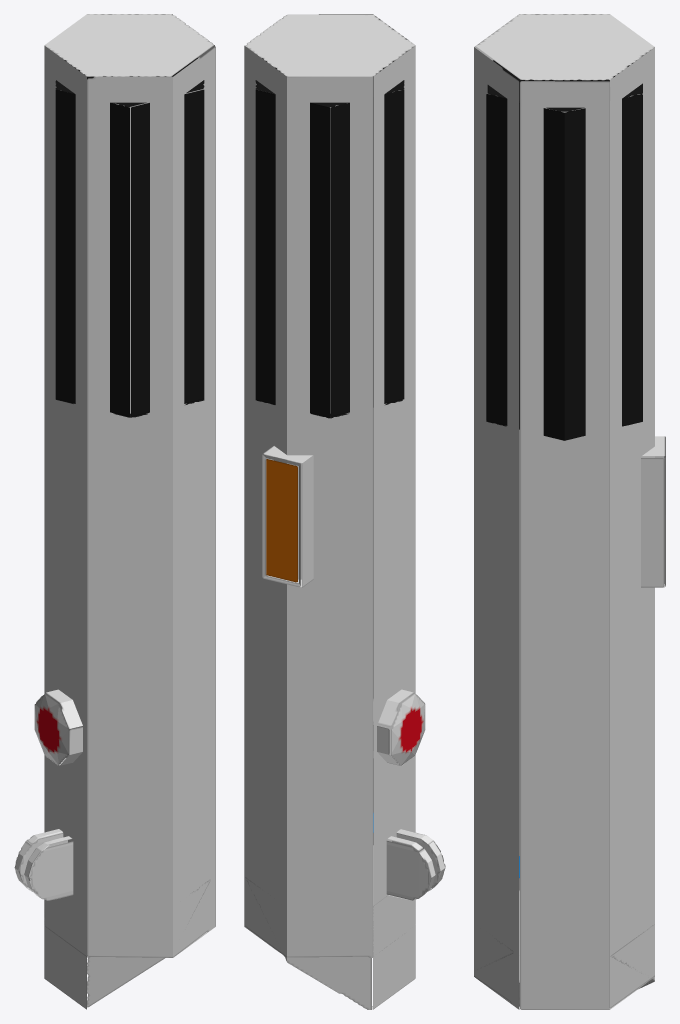
The model's file is anakin_off.fbx.
The picture shows the model from 3 angles, left to right: view 1: azimuth 30°, elevation 25°; view 2: azimuth 150°, elevation 25°; view 3: azimuth 270°, elevation 25°; orthographic projection. The views are drawn at different scales.
Visible parts, largest first — view 1: Blade; view 2: Blade; view 3: Blade.
Part boxes in pixels (<box>): Blade: <box>14,14,215,1009</box>; Blade: <box>244,14,445,1009</box>; Blade: <box>474,14,665,1009</box>.
Size of the model in its own units: 0.0369 by 0.18 by 0.0318.
